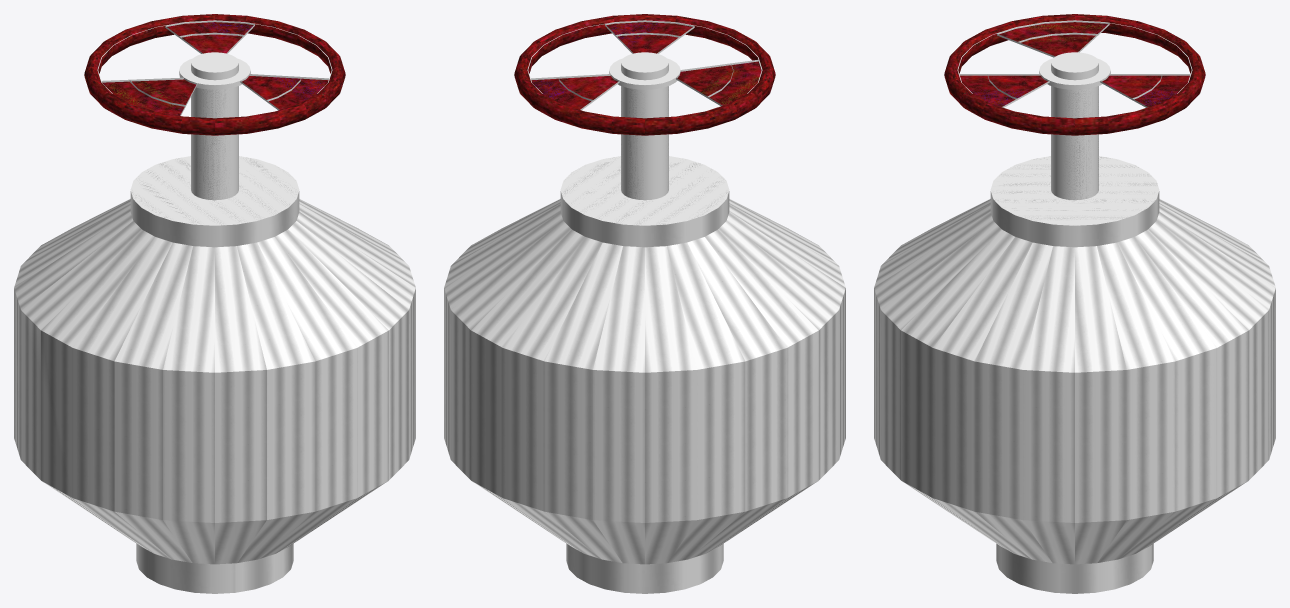
File: 一二轧阀门阀门.dae
3 renders of one model, left to right at view 1: azimuth 30°, elevation 25°; view 2: azimuth 150°, elevation 25°; view 3: azimuth 270°, elevation 25°, orthographic.
Parts seen in each view (by area): view 1: SketchUp (×9); view 2: SketchUp (×9); view 3: SketchUp (×9).
Boxes of the visible parts, <box> form: SketchUp (×9): <box>14,14,415,593</box>; SketchUp (×9): <box>444,14,845,593</box>; SketchUp (×9): <box>874,14,1275,593</box>.
Size of the model in its own units: 23.62 by 23.62 by 32.31.
4 materials, 3 textured.
